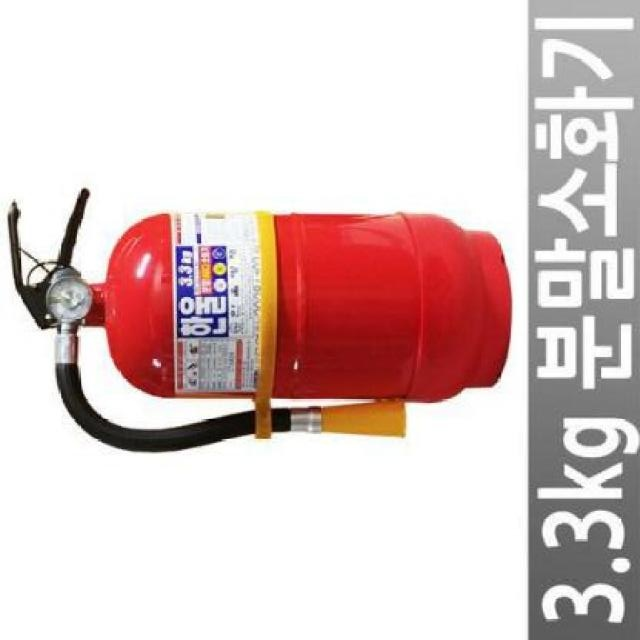fire extinguisher: (8, 187, 512, 455)
